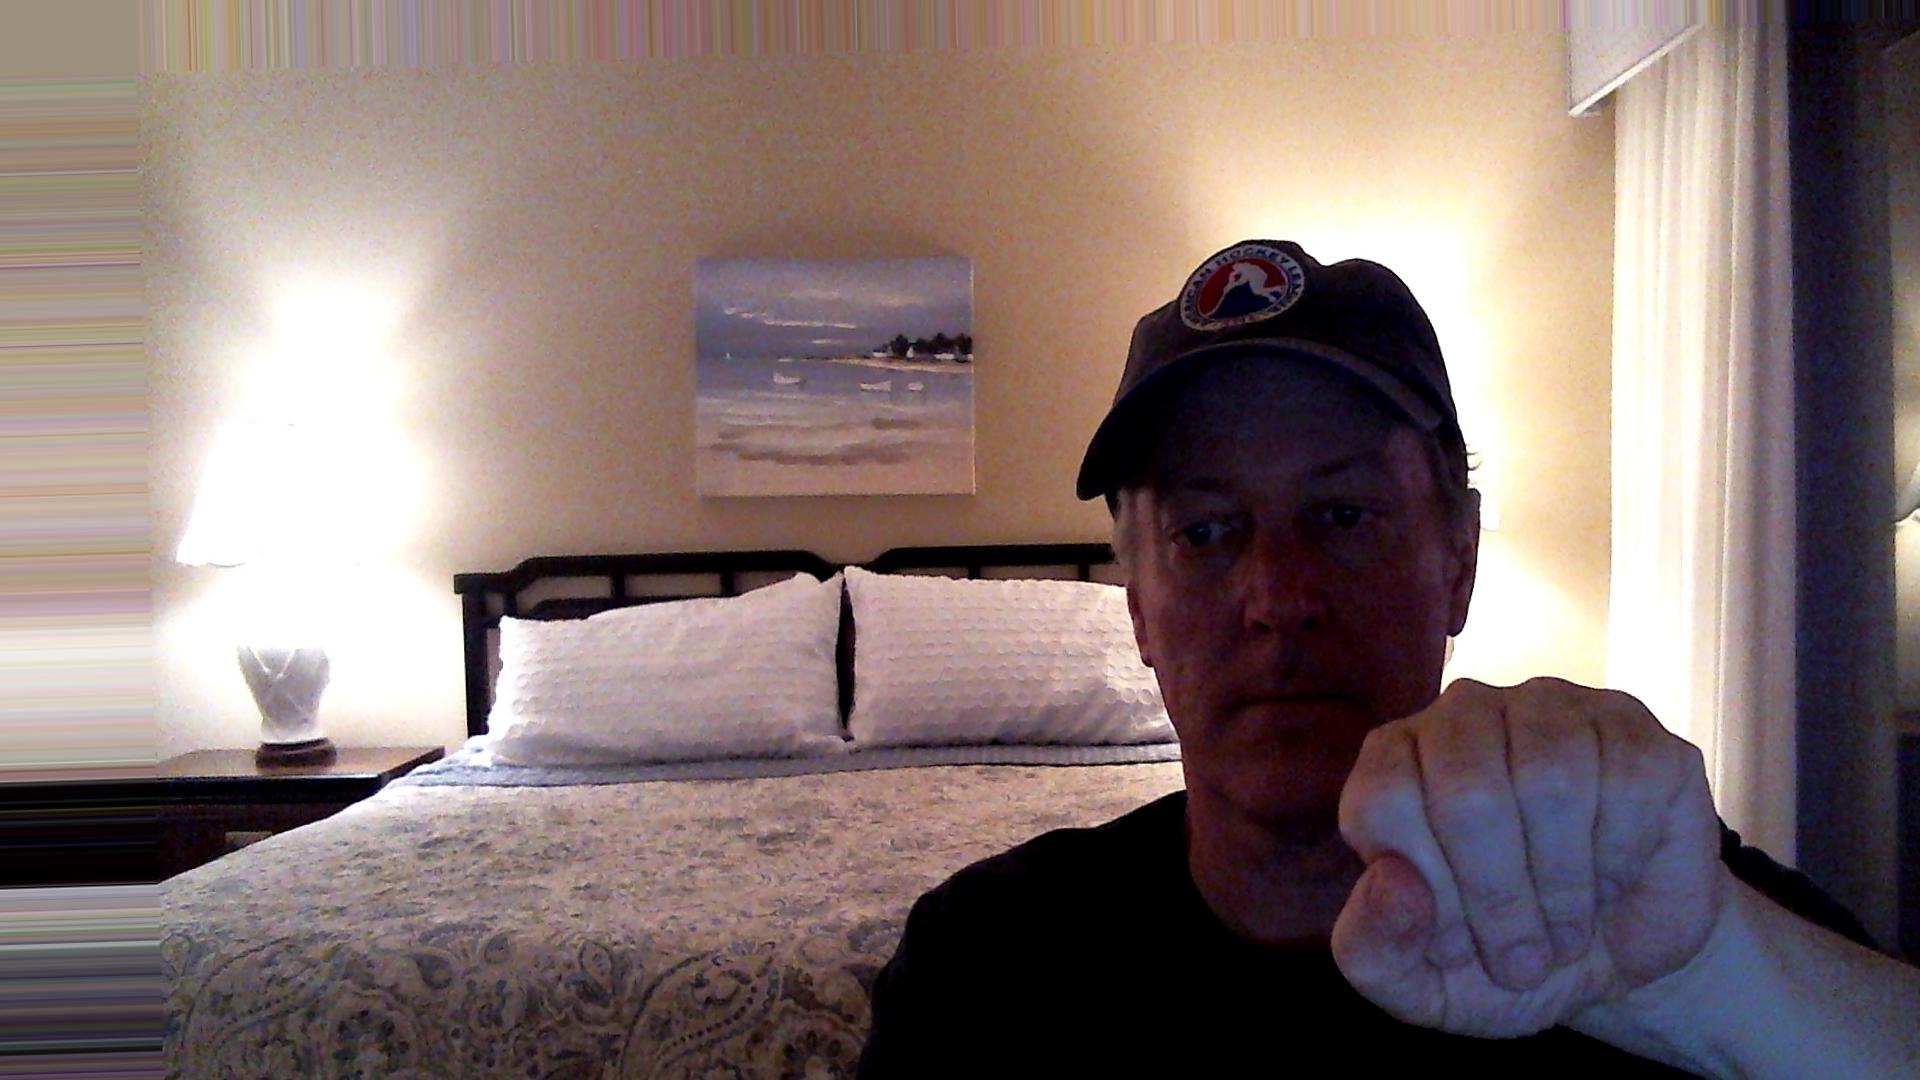Yes: (1315, 662, 1763, 1052)
